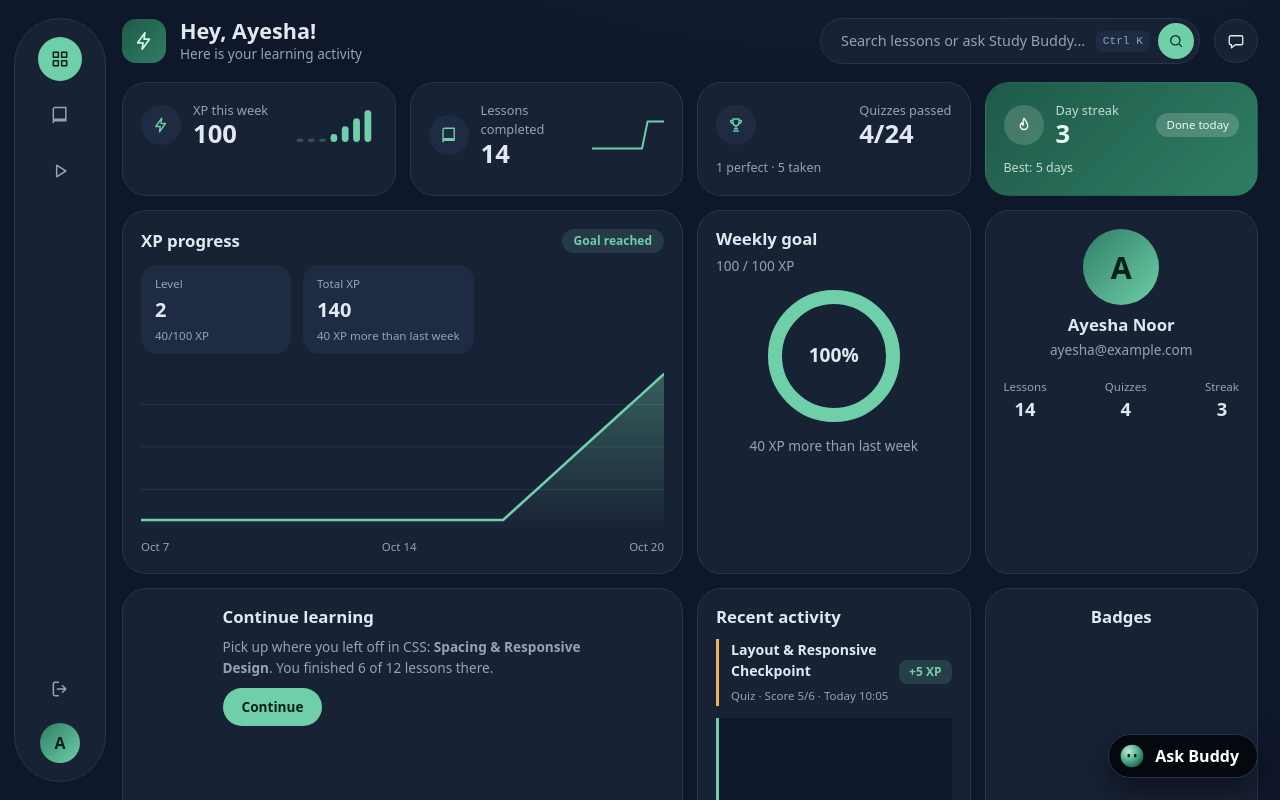
Test: Study Buddy panel › answers typed questions, offers a link to the next lesson, and closes with Escape
Click the button named "Open Study Buddy". click: (1236, 41)
box: [1214,19,1258,63]
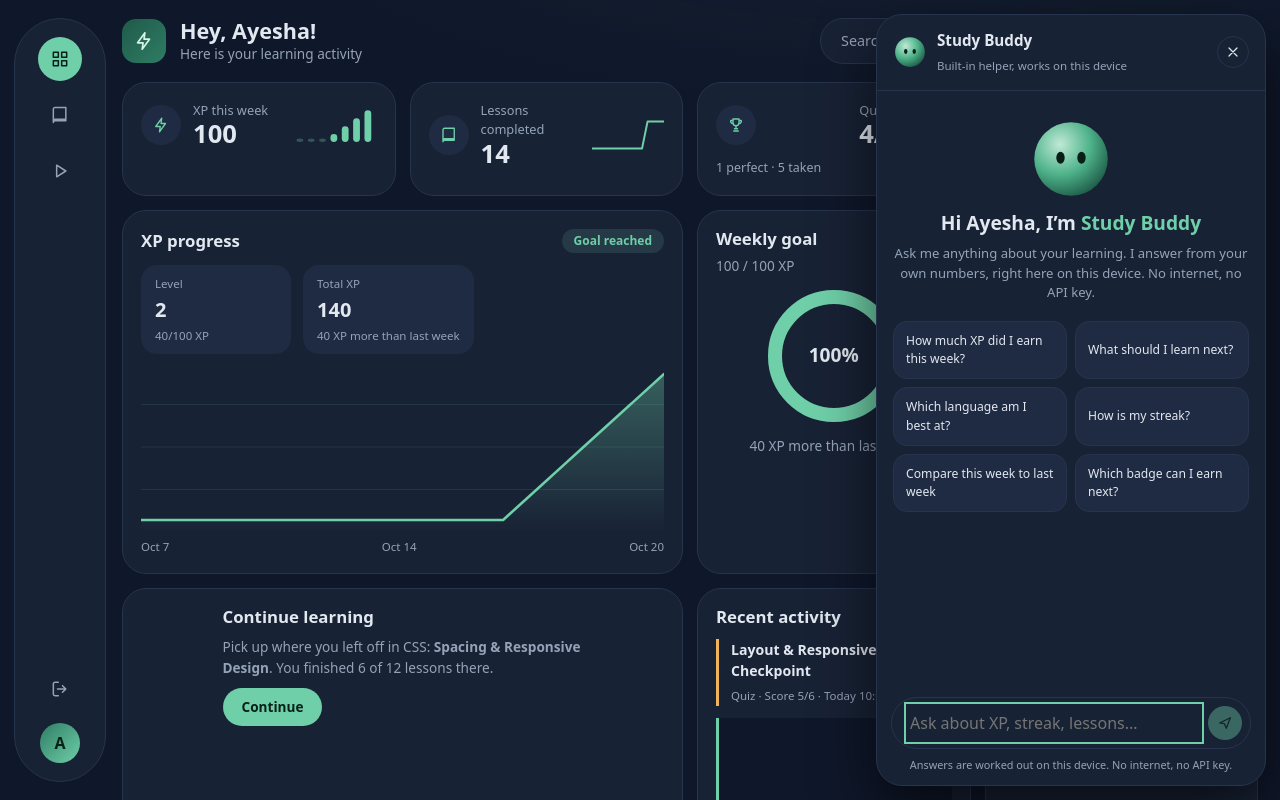
Type "What should I learn next?" into the field named "Ask Study Buddy". click: (1054, 723)
box: [908,706,1200,740]
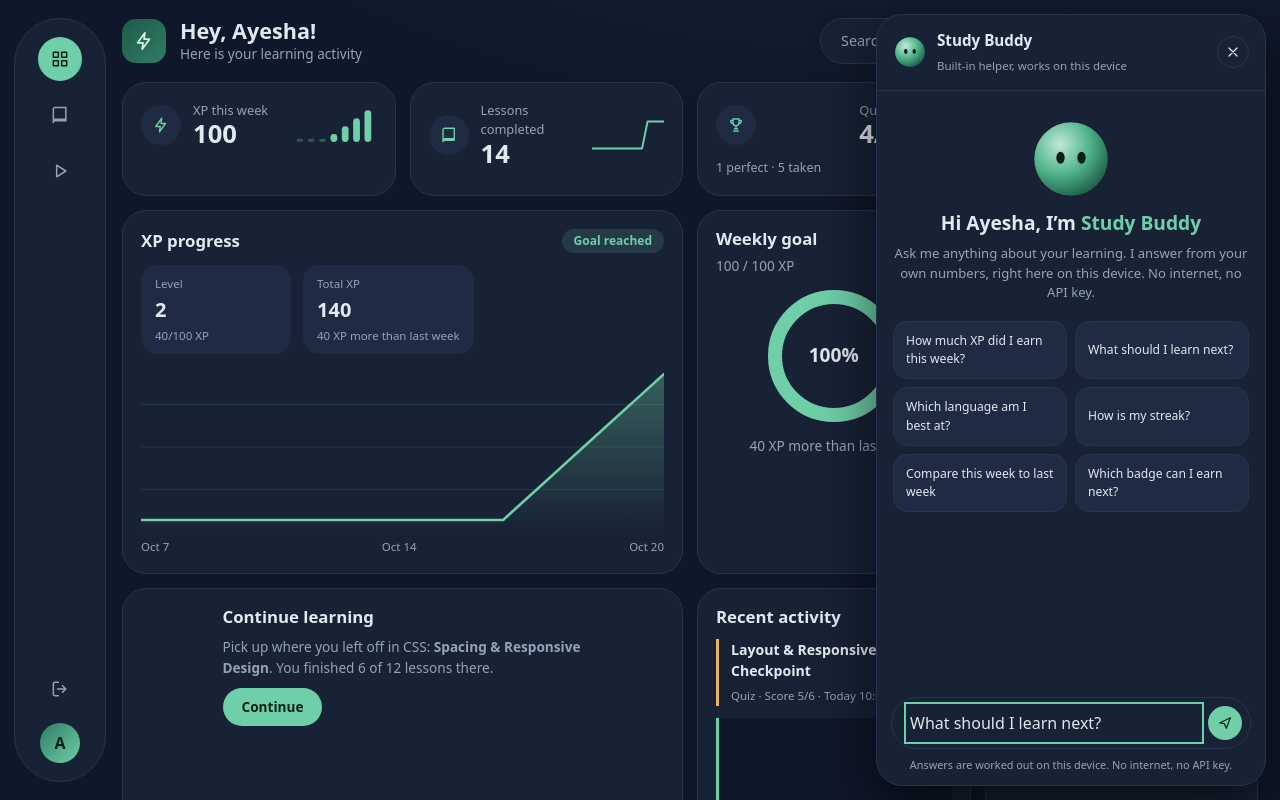
Click the button named "Send question". click: (1225, 723)
box: [1208,706,1242,740]
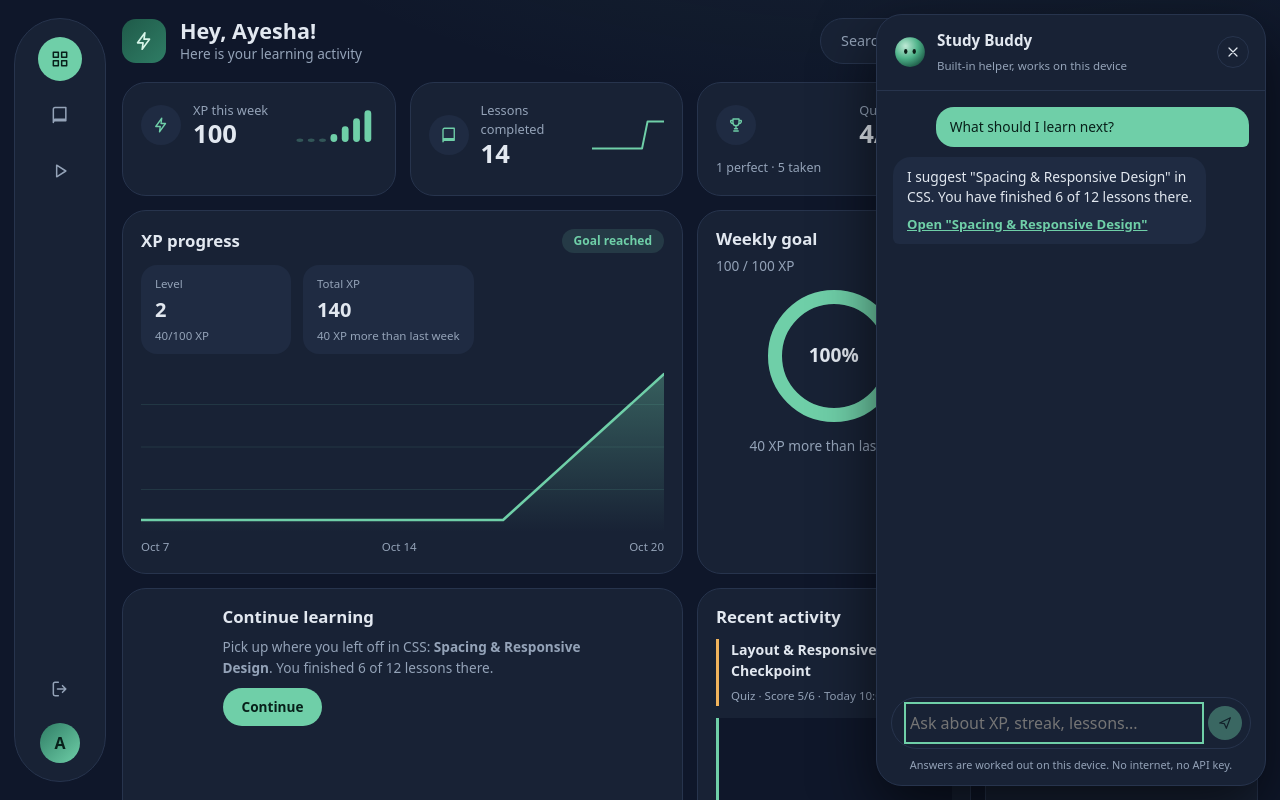
Expected: the text "I suggest \"Spacing & Responsive Design\" in CSS" is shown, [907,167,1192,206]
Press Escape
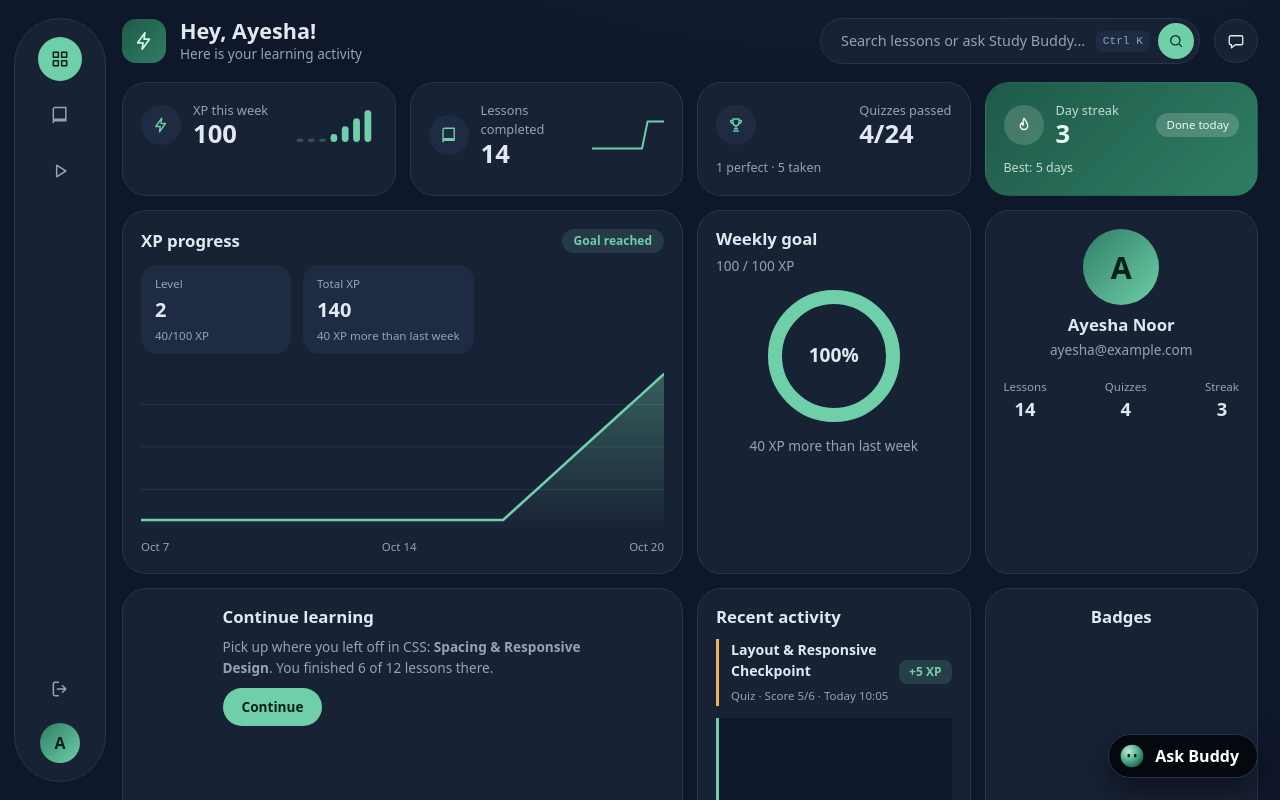
Expected: the button "Ask Buddy" is shown, [1108,734,1258,778]
